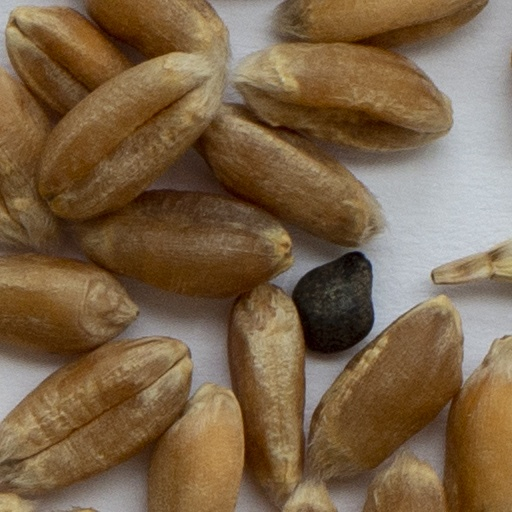Peel-poly: (429, 237, 511, 290)
